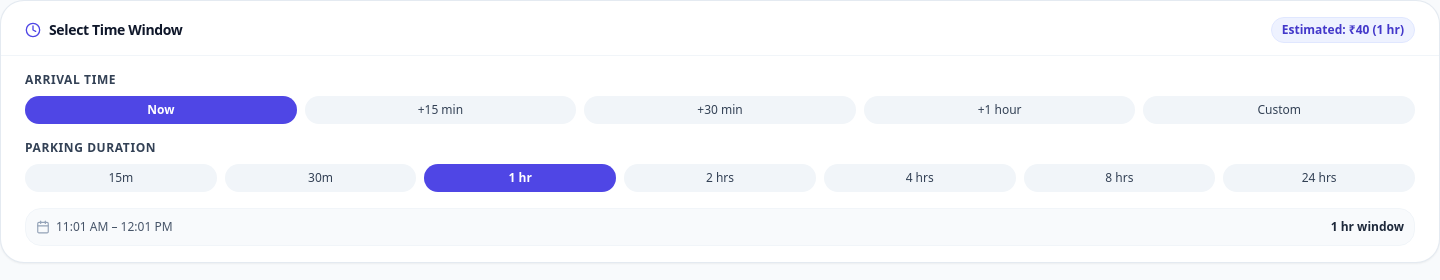
Test case: Leaflet Map, Marker Colors, Lot Panel and SlotGrid › TimeWindowSelector › calculates duration and estimated cost in rupees
Expected: the text "Estimated: ₹40 (1 hr)" is shown, [1271,17,1415,43]
Note: Click "2 hrs"
Click the button "2 hrs": (720, 178) [624,164,816,192]
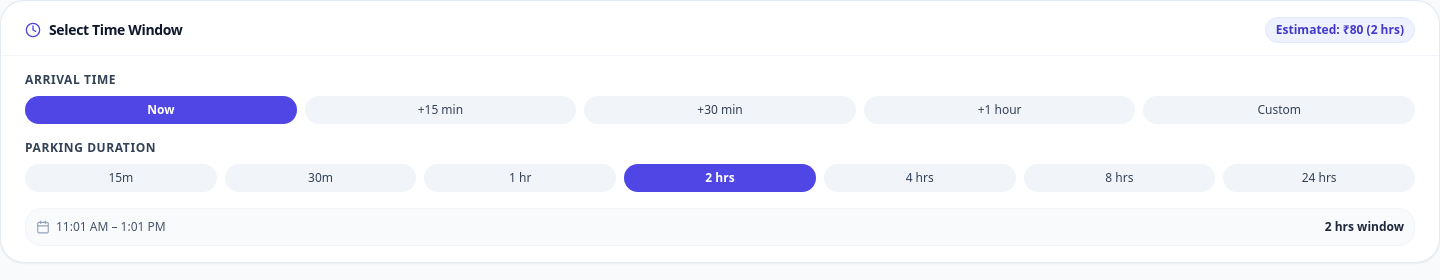
Expected: the text "Estimated: ₹80 (2 hrs)" is shown, [1265,17,1415,43]
